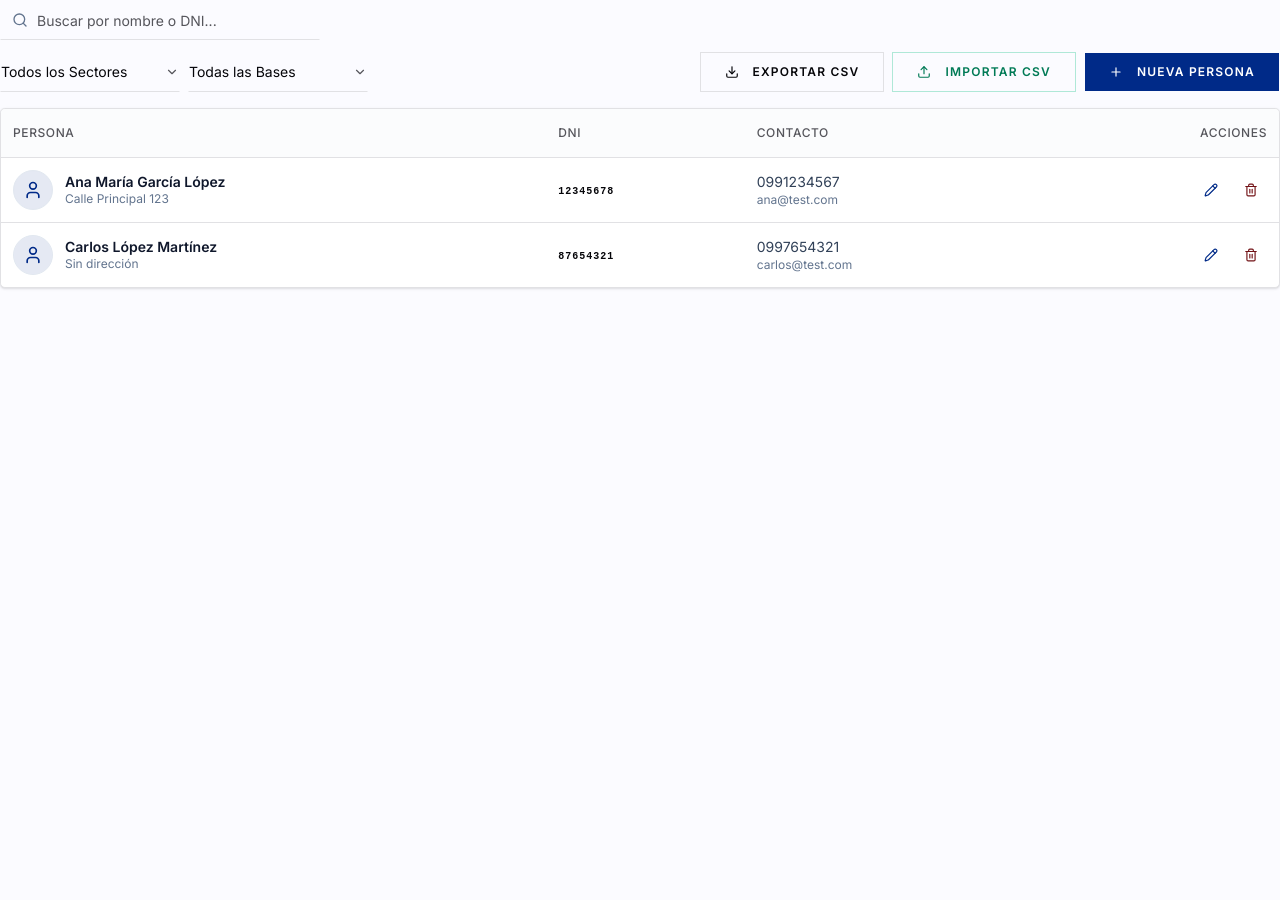
PersonasTable › abre el modal "¿Eliminar persona?" al hacer click en el botón de eliminar
Check: the text "Ana María García López" is shown, box left=65, top=172, right=226, bottom=191
What coordinates should you click on to do the following:
click the 5th button
I would click on:
 (1251, 190)
Its box is left=1235, top=174, right=1267, bottom=206.
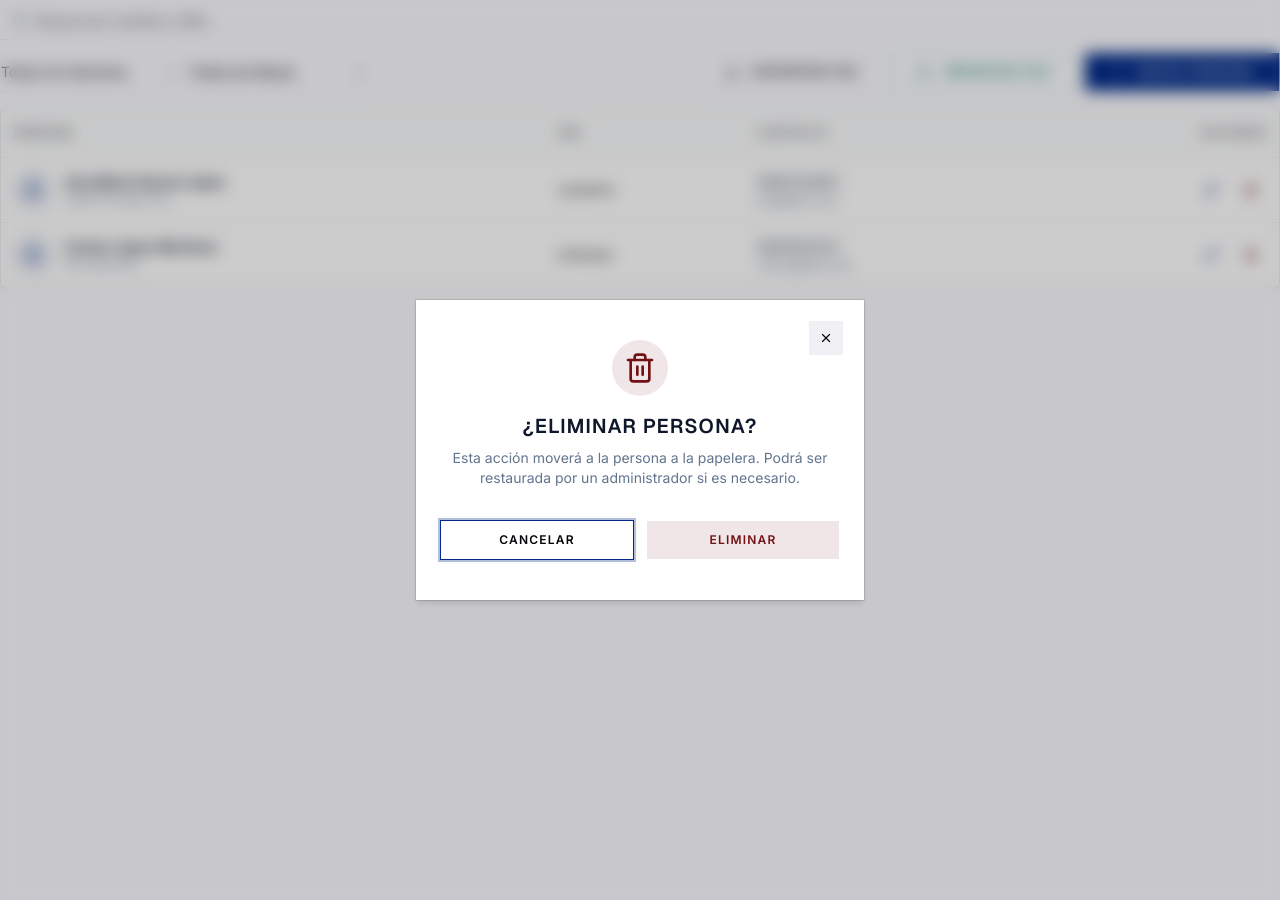
Check: the heading "¿Eliminar persona?" is shown, box left=522, top=413, right=758, bottom=439
